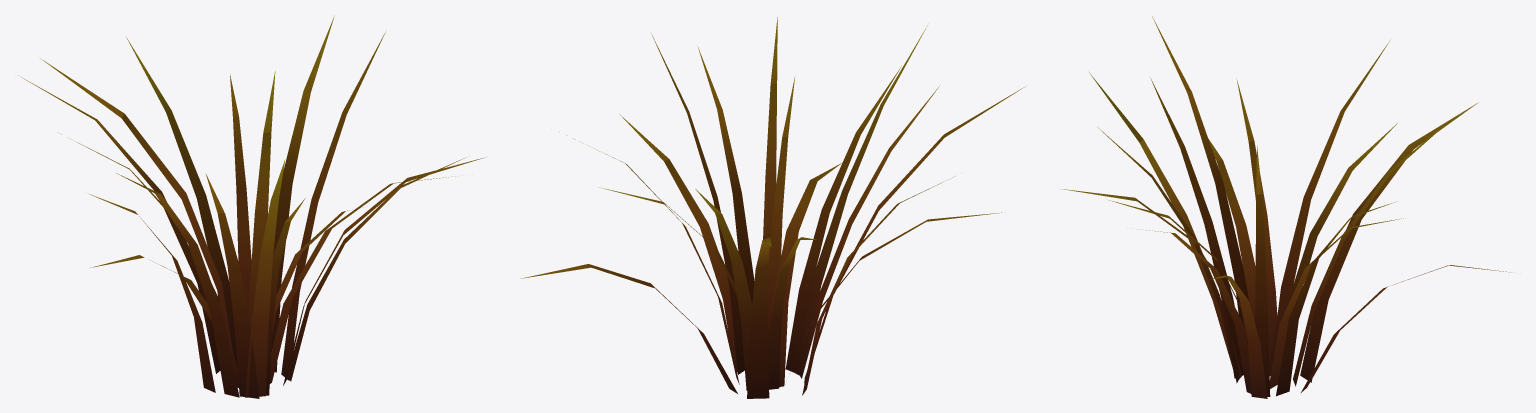
Rendered from Grass_A.fbx.
The picture shows the model from 3 angles, left to right: view 1: azimuth 30°, elevation 25°; view 2: azimuth 150°, elevation 25°; view 3: azimuth 270°, elevation 25°; orthographic projection. The views are drawn at different scales.
Visible parts, largest first — view 1: Grass_A; view 2: Grass_A; view 3: Grass_A.
Boxes of the visible parts, x1,y1,x2,y2 form: Grass_A: (18, 15, 485, 398); Grass_A: (520, 17, 1025, 398); Grass_A: (1062, 16, 1514, 398).
Bounding box in the file's own units: 0.4806 × 0.3836 × 0.544.
